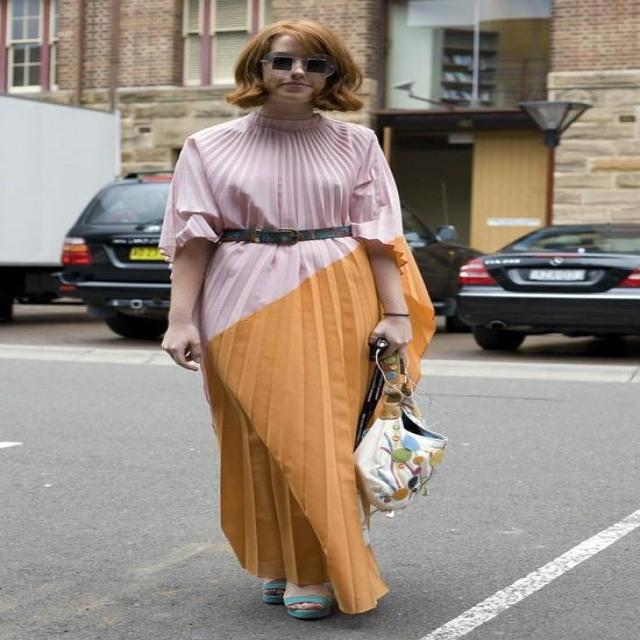dress: (157, 111, 436, 616)
